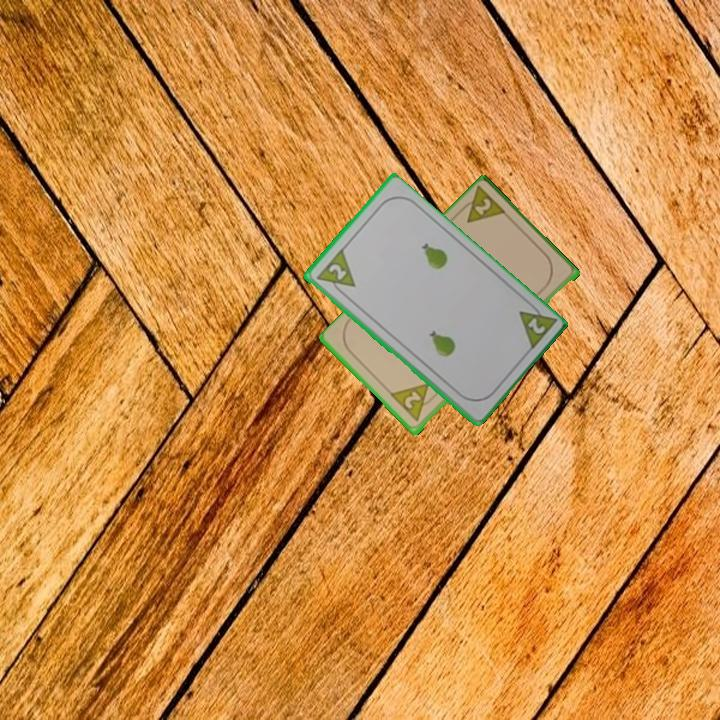2p: (312, 246, 358, 300), (454, 184, 510, 227), (388, 380, 440, 426), (523, 314, 548, 337)
